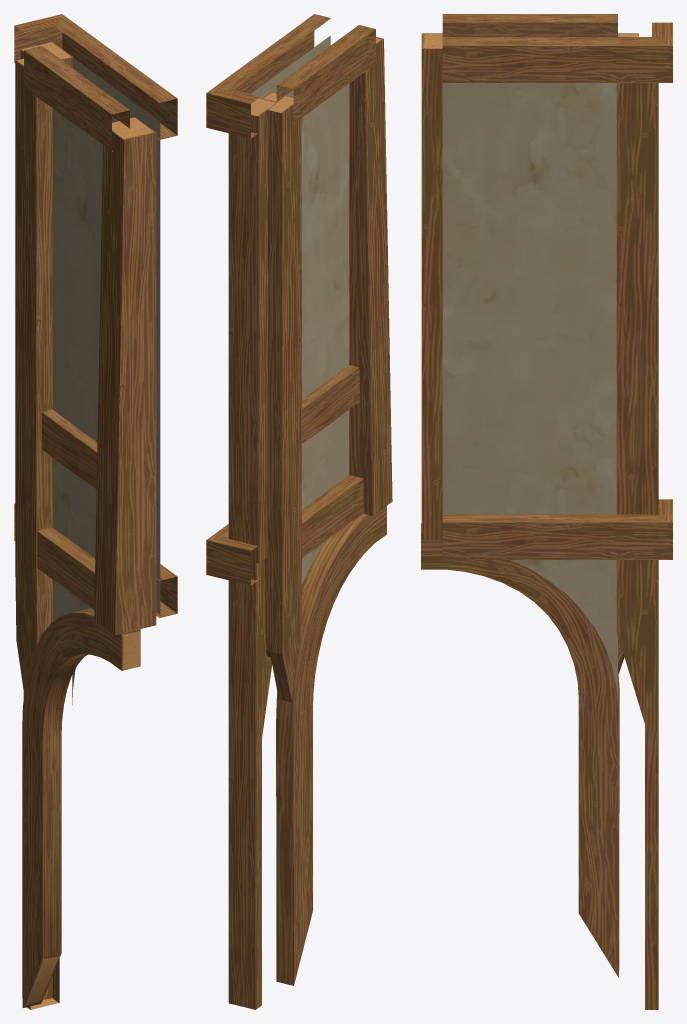
Rendered from overhang_side_plaster_short_l.glb.
The picture shows the model from 3 angles, left to right: view 1: azimuth 30°, elevation 25°; view 2: azimuth 150°, elevation 25°; view 3: azimuth 270°, elevation 25°; orthographic projection. The views are drawn at different scales.
Size of the model in its own units: 0.4794 by 6.12 by 1.44.
Materials: 2 (2 with a texture image).
